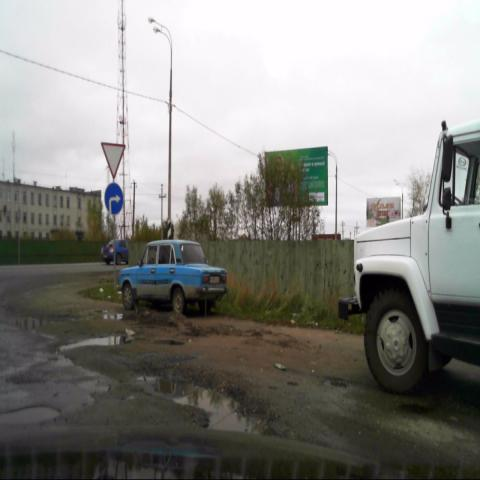4_1_2: (104, 184, 123, 216)
